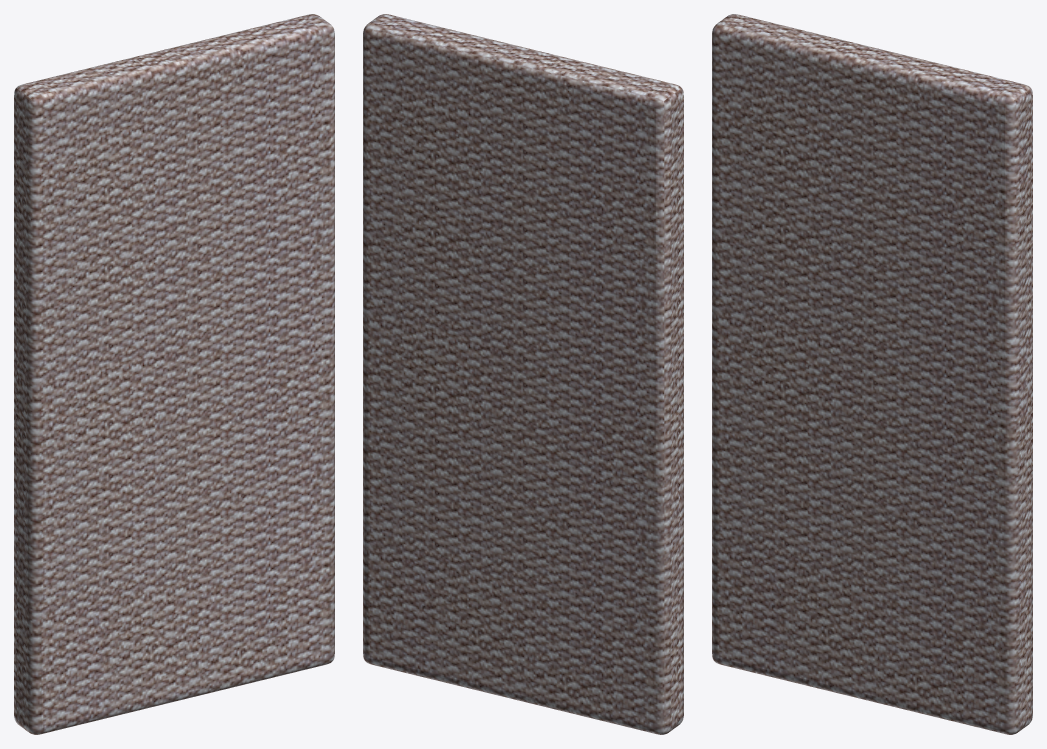
3 views of the same model, side by side, from view 1: azimuth 30°, elevation 25°; view 2: azimuth 150°, elevation 25°; view 3: azimuth 330°, elevation 25° (orthographic).
Parts seen in each view (by area): view 1: Detail1; view 2: Detail1; view 3: Detail1.
Boxes of the visible parts, x1,y1,x2,y2 form: Detail1: (14,14,334,734); Detail1: (363,14,683,734); Detail1: (712,14,1032,734).
Bounding box in the file's own units: 0.2 × 0.4 × 0.025.
Materials: 1 (1 with a texture image).
